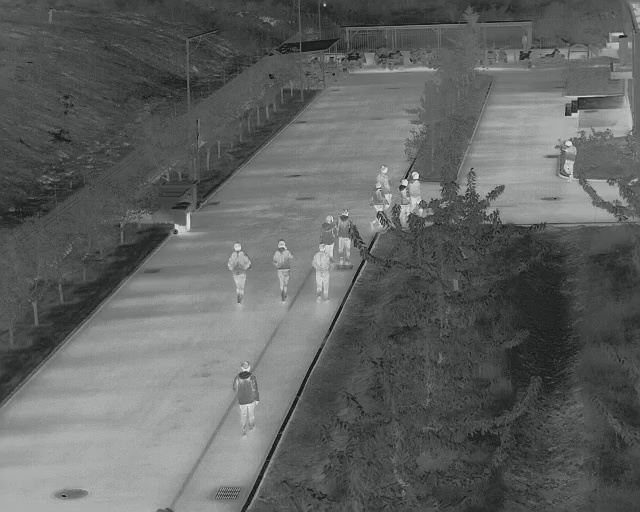person: (234, 363, 263, 438), (226, 241, 253, 305), (271, 239, 295, 302), (311, 241, 334, 301), (370, 164, 392, 210), (337, 211, 355, 266), (397, 176, 410, 219), (564, 139, 577, 182), (407, 170, 421, 203), (319, 213, 336, 240)
